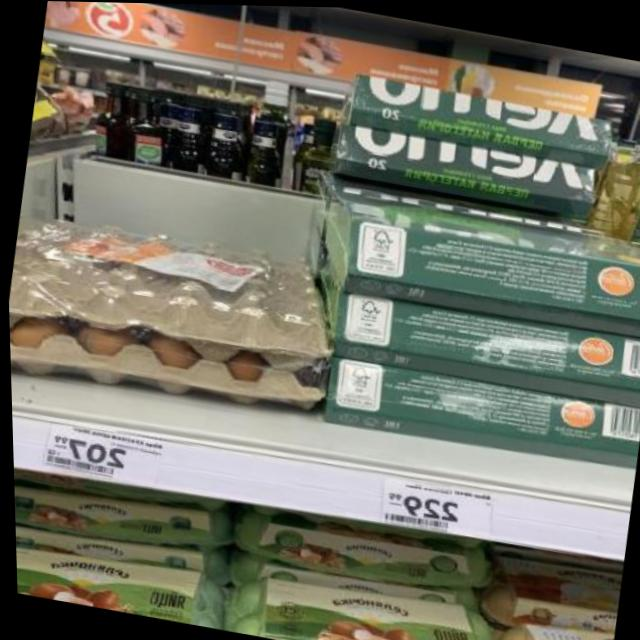Egg: (221, 497, 493, 600), (218, 563, 513, 640), (12, 537, 230, 630), (11, 472, 232, 563), (12, 513, 224, 582), (472, 545, 621, 636), (234, 71, 306, 193), (195, 84, 256, 187), (283, 108, 347, 201), (115, 78, 174, 176), (154, 86, 210, 175), (598, 129, 640, 243), (82, 74, 135, 163), (489, 607, 611, 640)
